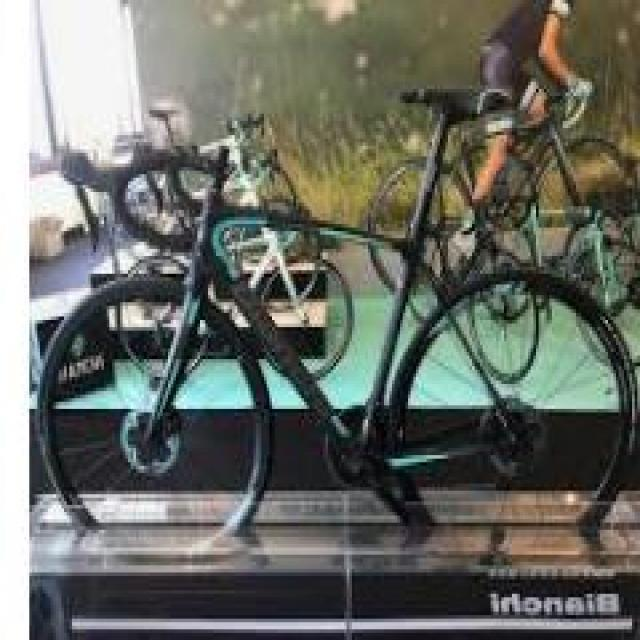bicycle: (47, 87, 639, 574)
